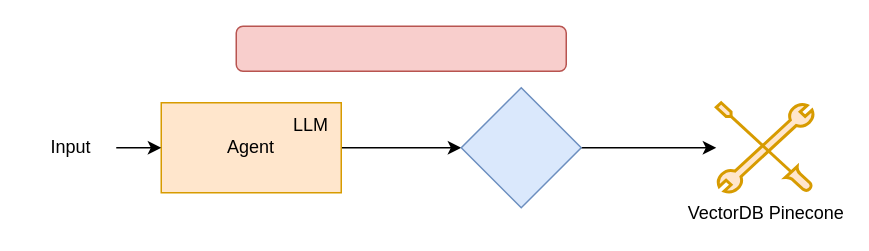
The diagram is 869 pixels wide and 251 high, and some of its shapes have lost their labels. Here are the shapes that lost their labels. From the top down, the box of each, then its label:
(235, 25, 566, 71): MCP RAG
(460, 86, 581, 208): N8N MCPTrigger
